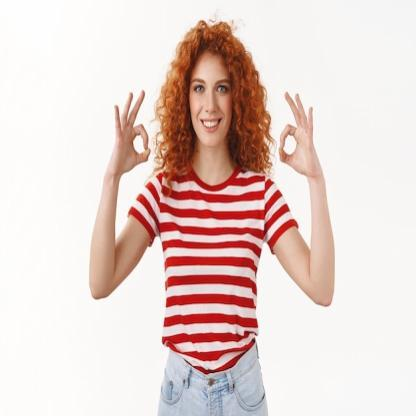ok: (276, 83, 327, 181), (112, 87, 152, 174)
